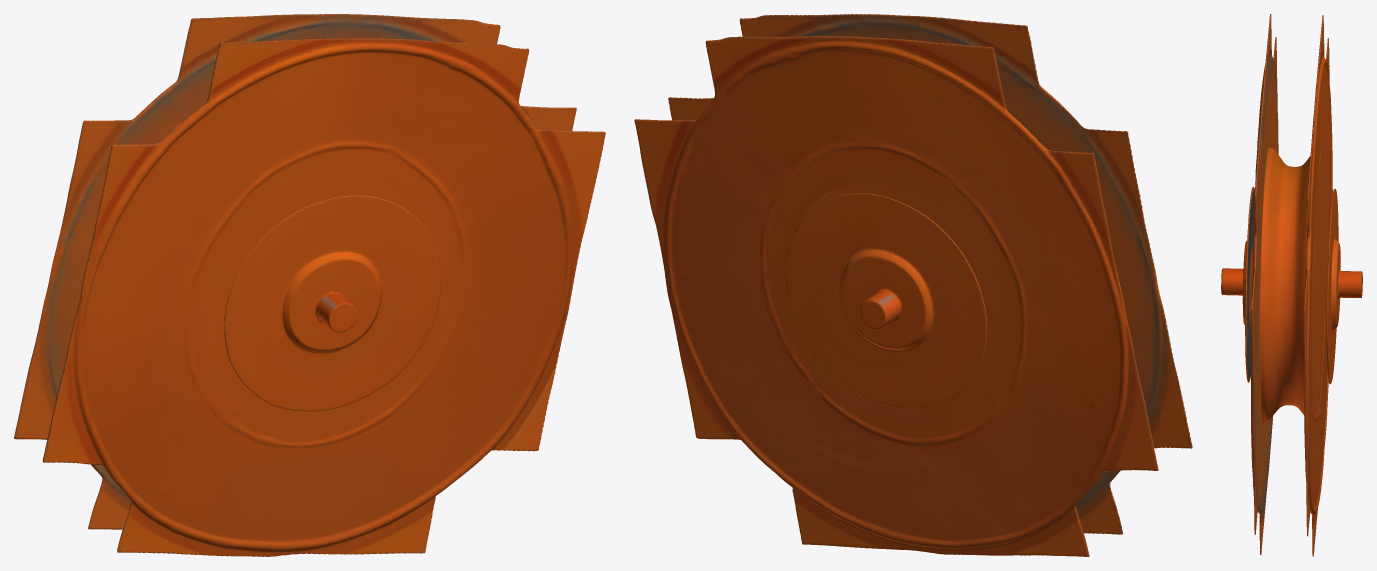
The picture shows the model from 3 angles, left to right: view 1: azimuth 30°, elevation 25°; view 2: azimuth 150°, elevation 25°; view 3: azimuth 270°, elevation 25°; orthographic projection. The views are drawn at different scales.
Parts seen in each view (by area): view 1: tripo_node_db08ba9a; view 2: tripo_node_db08ba9a; view 3: tripo_node_db08ba9a.
Part boxes in pixels (x1,y1,x2,y2): tripo_node_db08ba9a: (14, 14, 605, 556); tripo_node_db08ba9a: (634, 14, 1192, 556); tripo_node_db08ba9a: (1221, 14, 1362, 556).
Size of the model in its own units: 1 by 0.9698 by 0.2697.
Materials: 1 (1 with a texture image).
